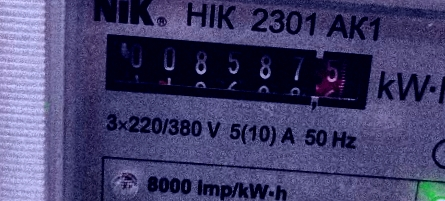0: (159, 43, 179, 72), (126, 39, 145, 69)
5: (323, 55, 342, 86), (223, 47, 243, 76)
7: (287, 51, 306, 83)
8: (255, 50, 275, 81), (191, 46, 210, 75)
screen: (83, 15, 391, 123)
